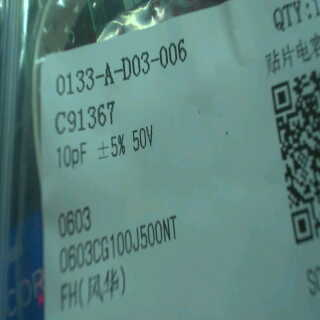10pF: (51, 141, 95, 179)
